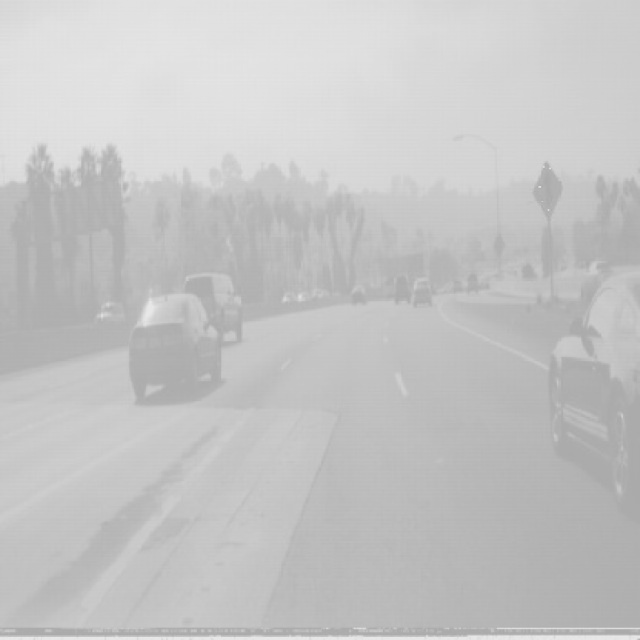merge: (532, 158, 563, 220)
